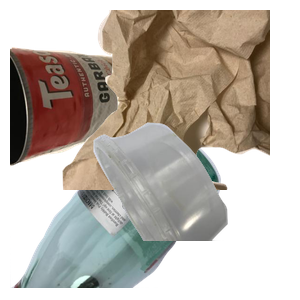glass: (10, 120, 224, 300)
metal: (10, 44, 151, 203)
plastic: (91, 120, 300, 300)
trash: (60, 10, 300, 190)
